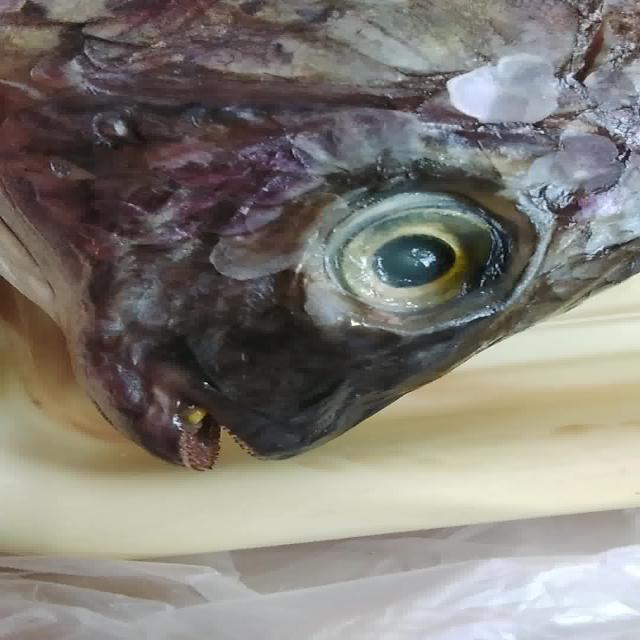Non-Fresh: (41, 142, 565, 441)
